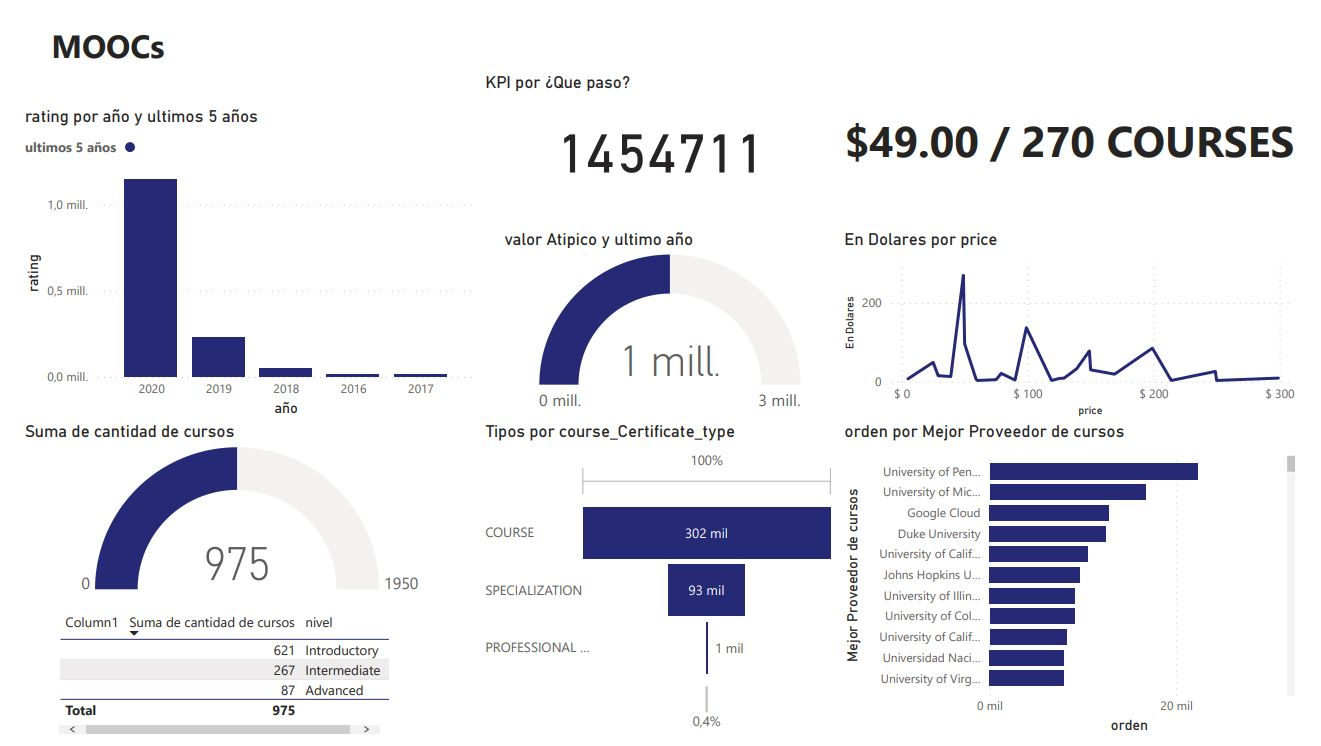

Layout of this report page (visuals, bound fields, positions):
{"tool":"powerbi","page":{"name":"Página 1","canvas":[1280,720],"ordinal":0},"visuals":[{"type":"columnChart","fields":{"Category":["df2_rating_por_año.año"],"Series":["df2_rating_por_año.Column1"],"Y":["Sum(df2_rating_por_año.rating)"]},"box":[0,88.5,459.9,314.9],"z":0},{"type":"gauge","fields":{"Y":["Sum(df2_rating_por_año.rating)"]},"box":[479.5,210.9,340.6,192.4],"z":1000},{"type":"kpi","fields":{"TrendLine":["df2_rating_por_año.Column1"],"Indicator":["Sum(df2_rating_por_año.rating)"]},"box":[459.9,53.5,360.1,157.4],"z":2000},{"type":"textbox","box":[0,0,459.9,53.5],"z":3000},{"type":"lineChart","fields":{"Category":["df3_price_dolares.price"],"Y":["Sum(df3_price_dolares.cursos)"]},"box":[820.1,210.9,459.9,192.4],"z":4000},{"type":"textbox","box":[820.1,88.5,459.9,122.4],"z":5000},{"type":"gauge","fields":{"Y":["Sum(df3_level.cantidad de cursos)"]},"box":[0,403.3,459.9,178],"z":6000},{"type":"tableEx","fields":{"Values":["df3_NIVELES.Column1","Sum(df3_NIVELES.cantidad de cursos)","df3_NIVELES.nivel"]},"box":[35,588.6,338.5,131.7],"z":7000},{"type":"funnel","fields":{"Category":["coursea_data.course_Certificate_type"],"Y":["Sum(coursea_data.Column1)"]},"box":[459.9,403.3,360.1,316.9],"z":8000},{"type":"barChart","fields":{"Category":["coursea_data.course_organization"],"Y":["Sum(coursea_data.Column1)"]},"box":[820,403,460,317],"z":9000}]}

Visuals, with their boxes in screenshot pixels (x1, y1, x2, y2), scaled from the page's 1280x720 canvas onto the 1321x746 screenshot:
columnChart - df2_rating_por_año.año x df2_rating_por_año.Column1: bbox(0, 92, 475, 418)
gauge - Sum(df2_rating_por_año.rating): bbox(495, 219, 846, 418)
kpi - df2_rating_por_año.Column1 x Sum(df2_rating_por_año.rating): bbox(475, 55, 846, 219)
textbox: bbox(0, 0, 475, 55)
lineChart - df3_price_dolares.price x Sum(df3_price_dolares.cursos): bbox(846, 219, 1320, 418)
textbox: bbox(846, 92, 1320, 219)
gauge - Sum(df3_level.cantidad de cursos): bbox(0, 418, 475, 602)
tableEx - df3_NIVELES.Column1 x Sum(df3_NIVELES.cantidad de cursos): bbox(36, 610, 385, 745)
funnel - coursea_data.course_Certificate_type x Sum(coursea_data.Column1): bbox(475, 418, 846, 745)
barChart - coursea_data.course_organization x Sum(coursea_data.Column1): bbox(846, 418, 1320, 745)
